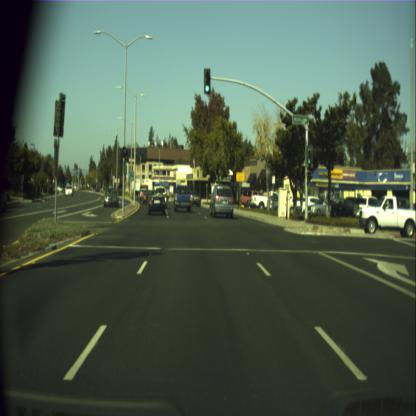Green: (203, 68, 211, 94), (306, 144, 314, 167)
